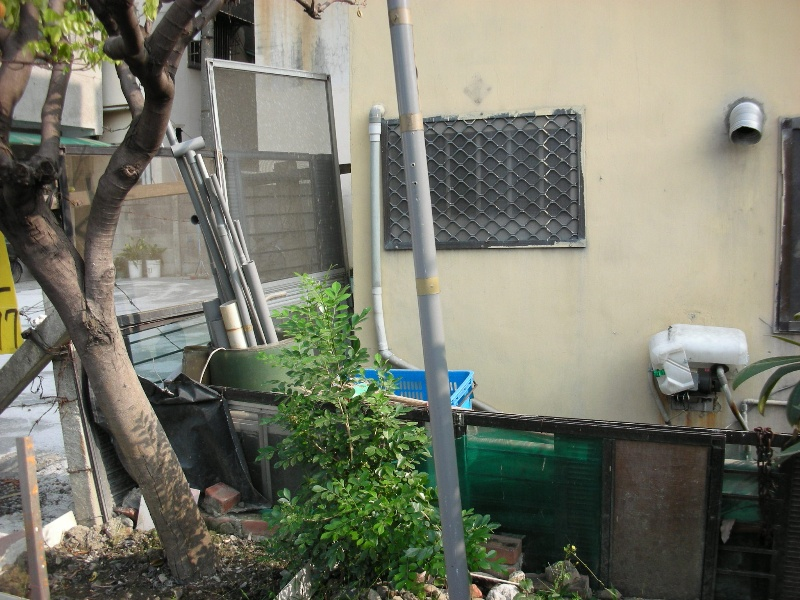plastic_bag: (168, 378, 234, 494)
